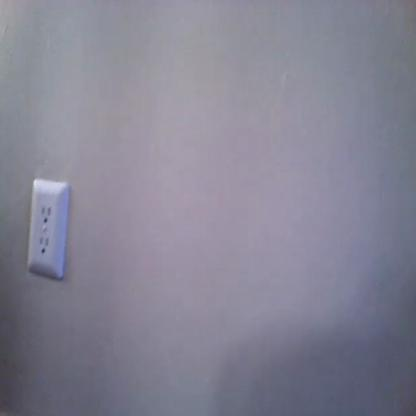OUTLET: (29, 178, 66, 276)
